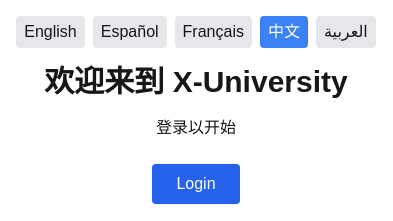
Test: UnauthHome › switches to Arabic when العربية button is clicked
The width and height of the screenshot is (393, 221).
Click the button "العربية": (346, 32) left=316, top=16, right=376, bottom=48
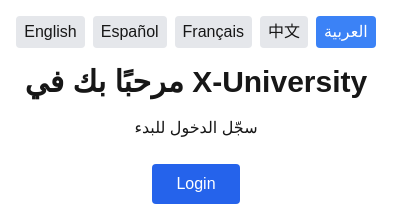
Now the heading "مرحبًا بك في X‑University" is shown, box left=25, top=64, right=367, bottom=100
Now the text "سجّل الدخول للبدء" is shown, box left=134, top=116, right=258, bottom=140
